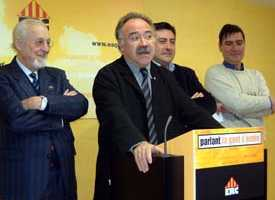person: (102, 11, 169, 110), (5, 15, 69, 99), (208, 19, 268, 105)
